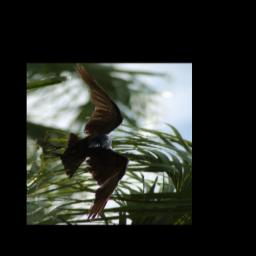Crow: (46, 64, 131, 221)
